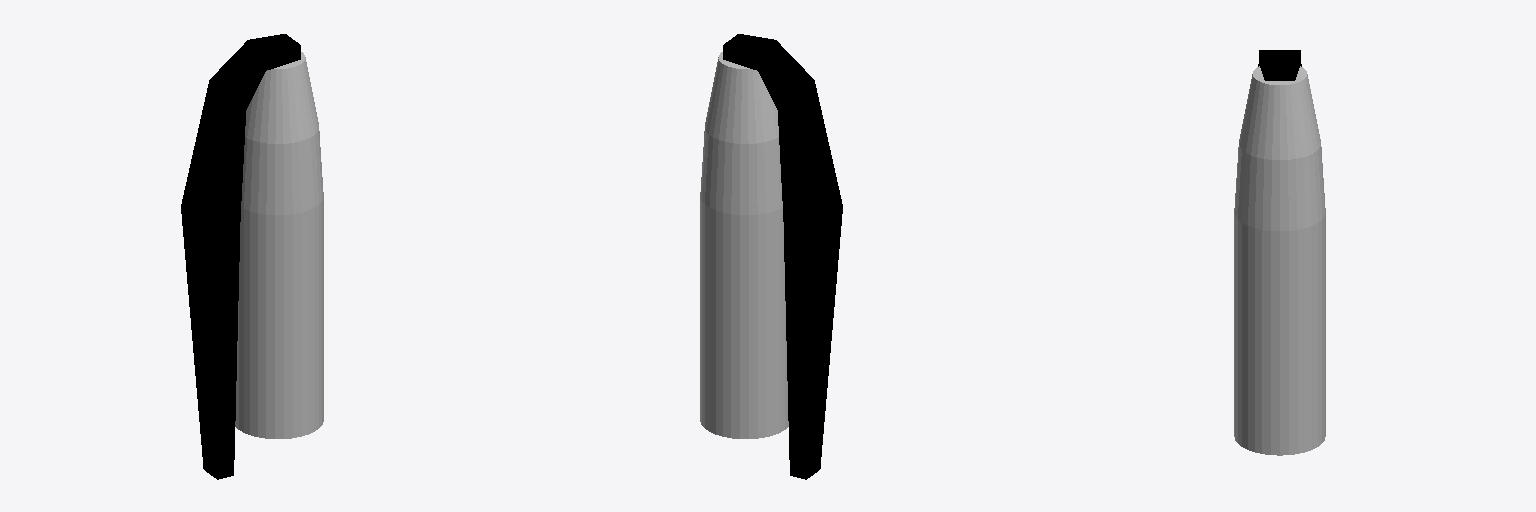
The model's file is cap.obj.
The picture shows the model from 3 angles: view 1: azimuth 30°, elevation 25°; view 2: azimuth 150°, elevation 25°; view 3: azimuth 270°, elevation 25°; orthographic projection.
Size of the model in its own units: 18.7 by 60.07 by 12.